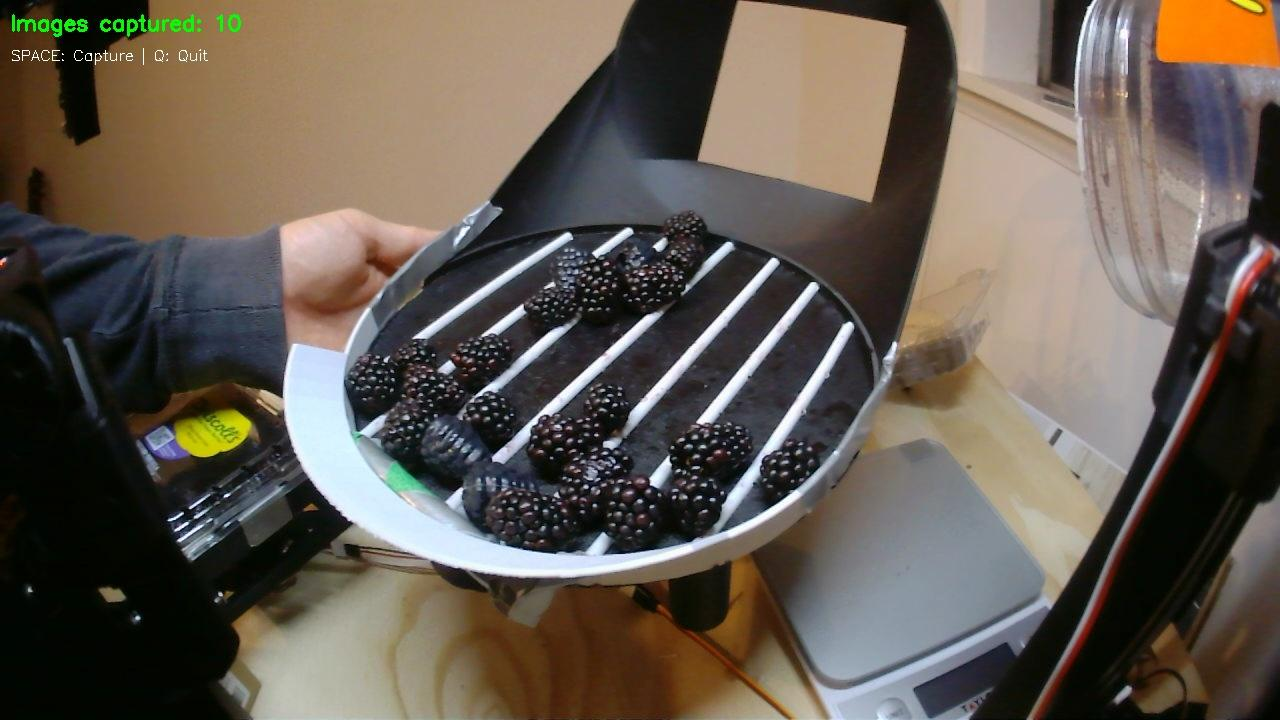berry: (557, 448, 632, 527), (484, 488, 577, 551), (462, 461, 537, 528), (526, 413, 603, 478), (418, 415, 491, 482), (670, 422, 753, 480), (605, 475, 667, 550), (377, 398, 438, 469), (757, 439, 820, 503), (451, 334, 512, 391), (668, 478, 725, 537), (345, 353, 399, 415), (461, 391, 516, 449), (624, 261, 685, 313), (403, 364, 466, 414), (575, 255, 621, 323), (523, 286, 575, 332), (584, 383, 631, 433), (662, 238, 705, 281), (551, 247, 589, 292), (615, 236, 658, 271), (390, 338, 436, 369), (662, 210, 707, 239)
